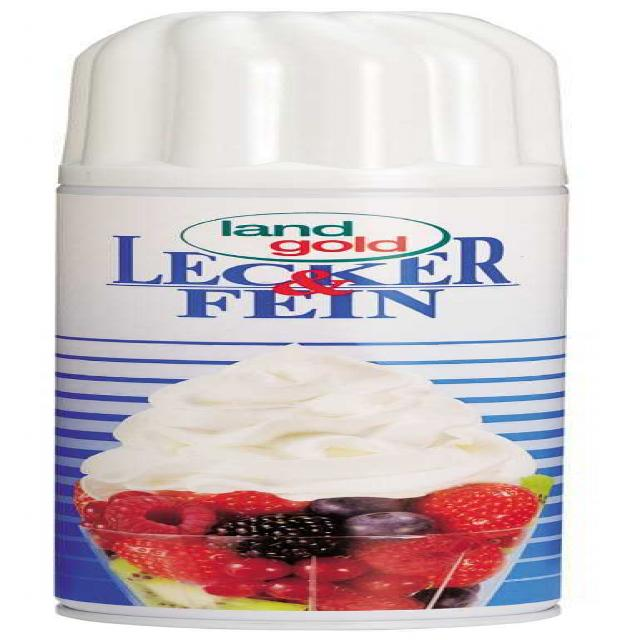Cream: (53, 11, 565, 630)
